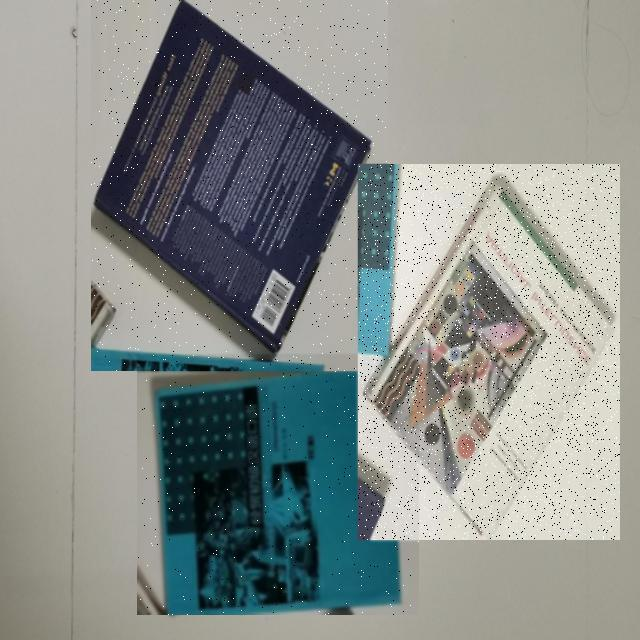Book: (91, 0, 388, 371), (358, 164, 620, 540), (137, 354, 419, 615)
